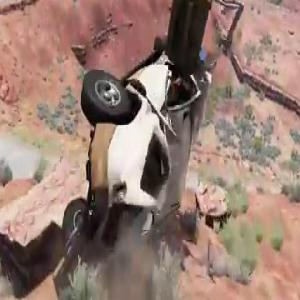severe: (60, 0, 215, 251)
